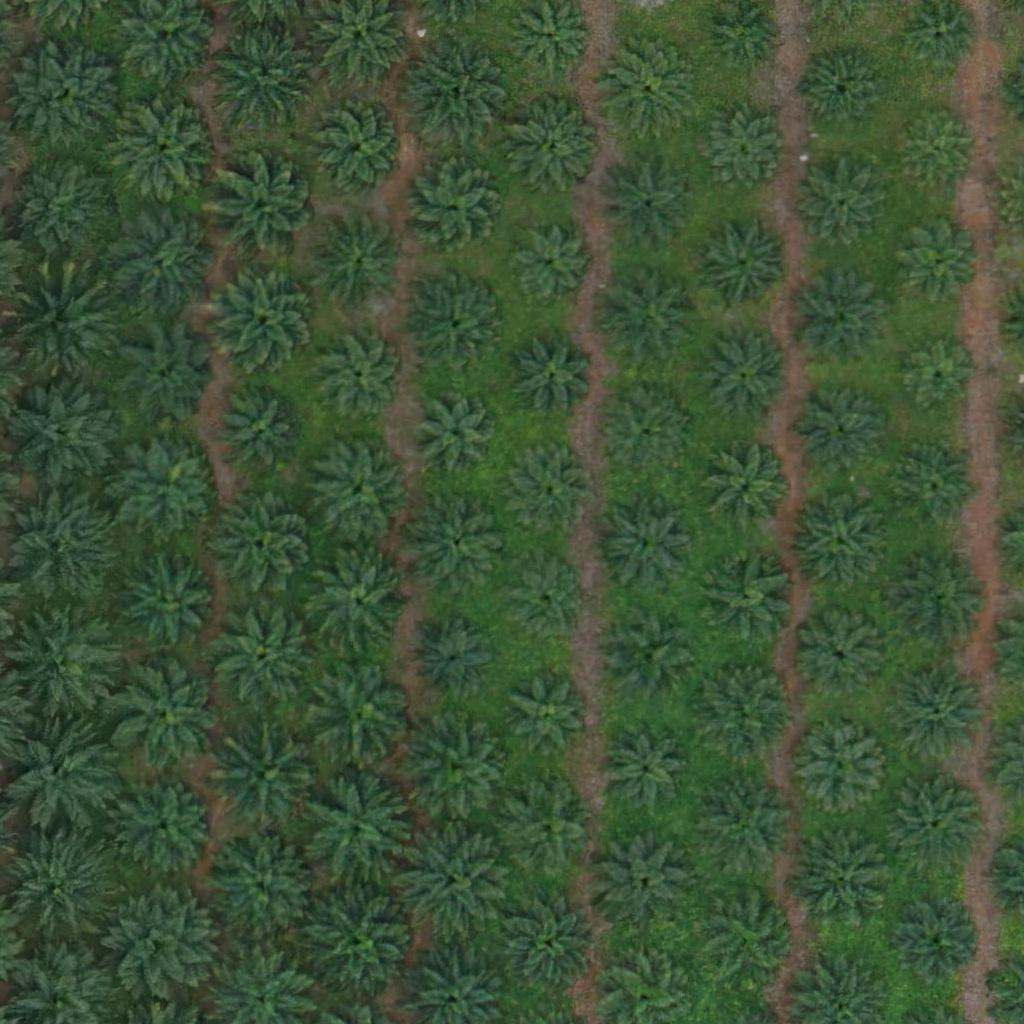Kelapa_Sawit: (212, 20, 325, 134), (206, 152, 319, 265), (208, 262, 321, 375), (7, 375, 120, 488), (3, 485, 116, 598), (8, 605, 121, 718), (5, 719, 118, 832), (107, 885, 220, 998), (300, 772, 413, 885), (398, 824, 511, 937), (399, 36, 511, 150), (14, 39, 126, 152), (5, 155, 117, 268), (4, 270, 116, 383), (112, 659, 224, 772), (207, 598, 319, 711), (214, 725, 326, 838), (207, 831, 319, 944), (307, 890, 419, 1003), (603, 36, 703, 137), (786, 270, 886, 371), (691, 101, 791, 202), (691, 211, 791, 312), (597, 151, 697, 252), (410, 492, 510, 593), (308, 211, 408, 312), (309, 439, 409, 540), (309, 556, 409, 657), (213, 493, 313, 594), (112, 98, 212, 199), (109, 210, 209, 311), (118, 326, 218, 427), (119, 436, 219, 537), (116, 550, 216, 651), (118, 776, 218, 877), (600, 604, 700, 705), (695, 657, 795, 758), (700, 778, 800, 879), (791, 717, 891, 818), (790, 828, 890, 929), (893, 662, 993, 763), (886, 773, 986, 874), (889, 551, 989, 651), (789, 490, 889, 590), (695, 547, 795, 647), (600, 267, 700, 367), (595, 494, 695, 594), (505, 95, 605, 195), (404, 157, 504, 257), (408, 273, 508, 373), (308, 98, 408, 198), (310, 660, 410, 760), (408, 720, 508, 820), (496, 778, 596, 878), (594, 826, 694, 926), (703, 887, 803, 987), (801, 48, 889, 137), (797, 613, 885, 702), (894, 443, 982, 531), (796, 162, 884, 250), (795, 387, 883, 475), (508, 224, 596, 312), (217, 388, 305, 476), (602, 727, 690, 815), (891, 897, 979, 985), (892, 215, 979, 303), (700, 335, 787, 423), (703, 446, 790, 534), (603, 395, 690, 483), (415, 387, 502, 475), (317, 331, 404, 419), (508, 898, 595, 986), (517, 341, 592, 417), (515, 452, 590, 528), (418, 622, 493, 698), (512, 675, 587, 751), (903, 341, 978, 416), (897, 110, 972, 185), (507, 567, 582, 642)
